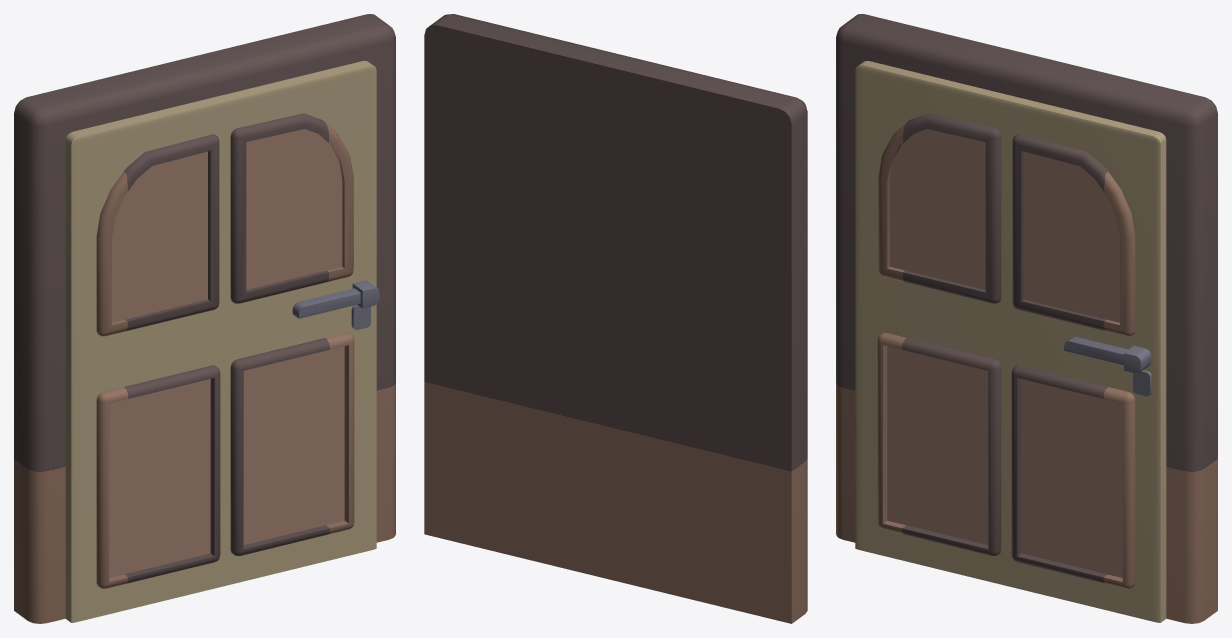
Rendered from marcopuerta_01.fbx.
The picture shows the model from 3 angles, left to right: view 1: azimuth 30°, elevation 25°; view 2: azimuth 150°, elevation 25°; view 3: azimuth 330°, elevation 25°; orthographic projection.
Visible parts, largest first — view 1: puerta.003, marcopuerta_01.001; view 2: marcopuerta_01.001; view 3: puerta.003, marcopuerta_01.001.
Part boxes in pixels (x1,y1,x2,y2): puerta.003: (65,61,379,622); marcopuerta_01.001: (14,14,395,623); marcopuerta_01.001: (424,14,807,623); puerta.003: (855,61,1166,622); marcopuerta_01.001: (836,14,1217,623).
Bounding box in the file's own units: 300 × 400 × 54.15.
